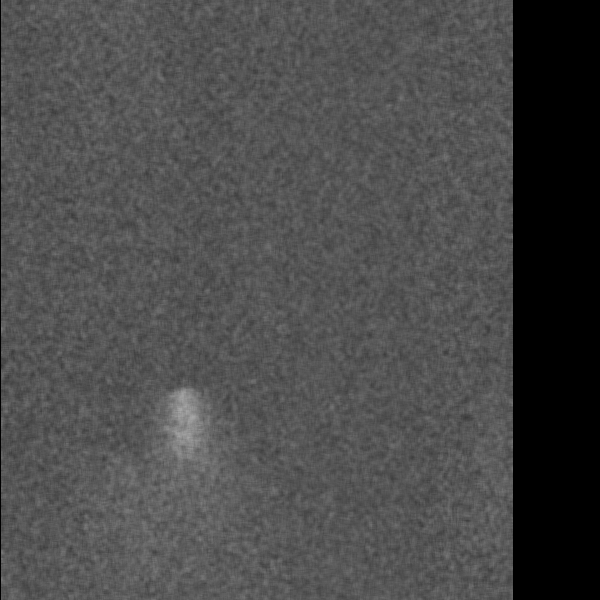spark: (190, 357, 220, 443), (351, 152, 388, 213), (91, 516, 128, 575), (468, 283, 501, 345), (389, 222, 431, 270), (481, 140, 513, 196), (450, 190, 475, 233), (476, 537, 503, 575)
